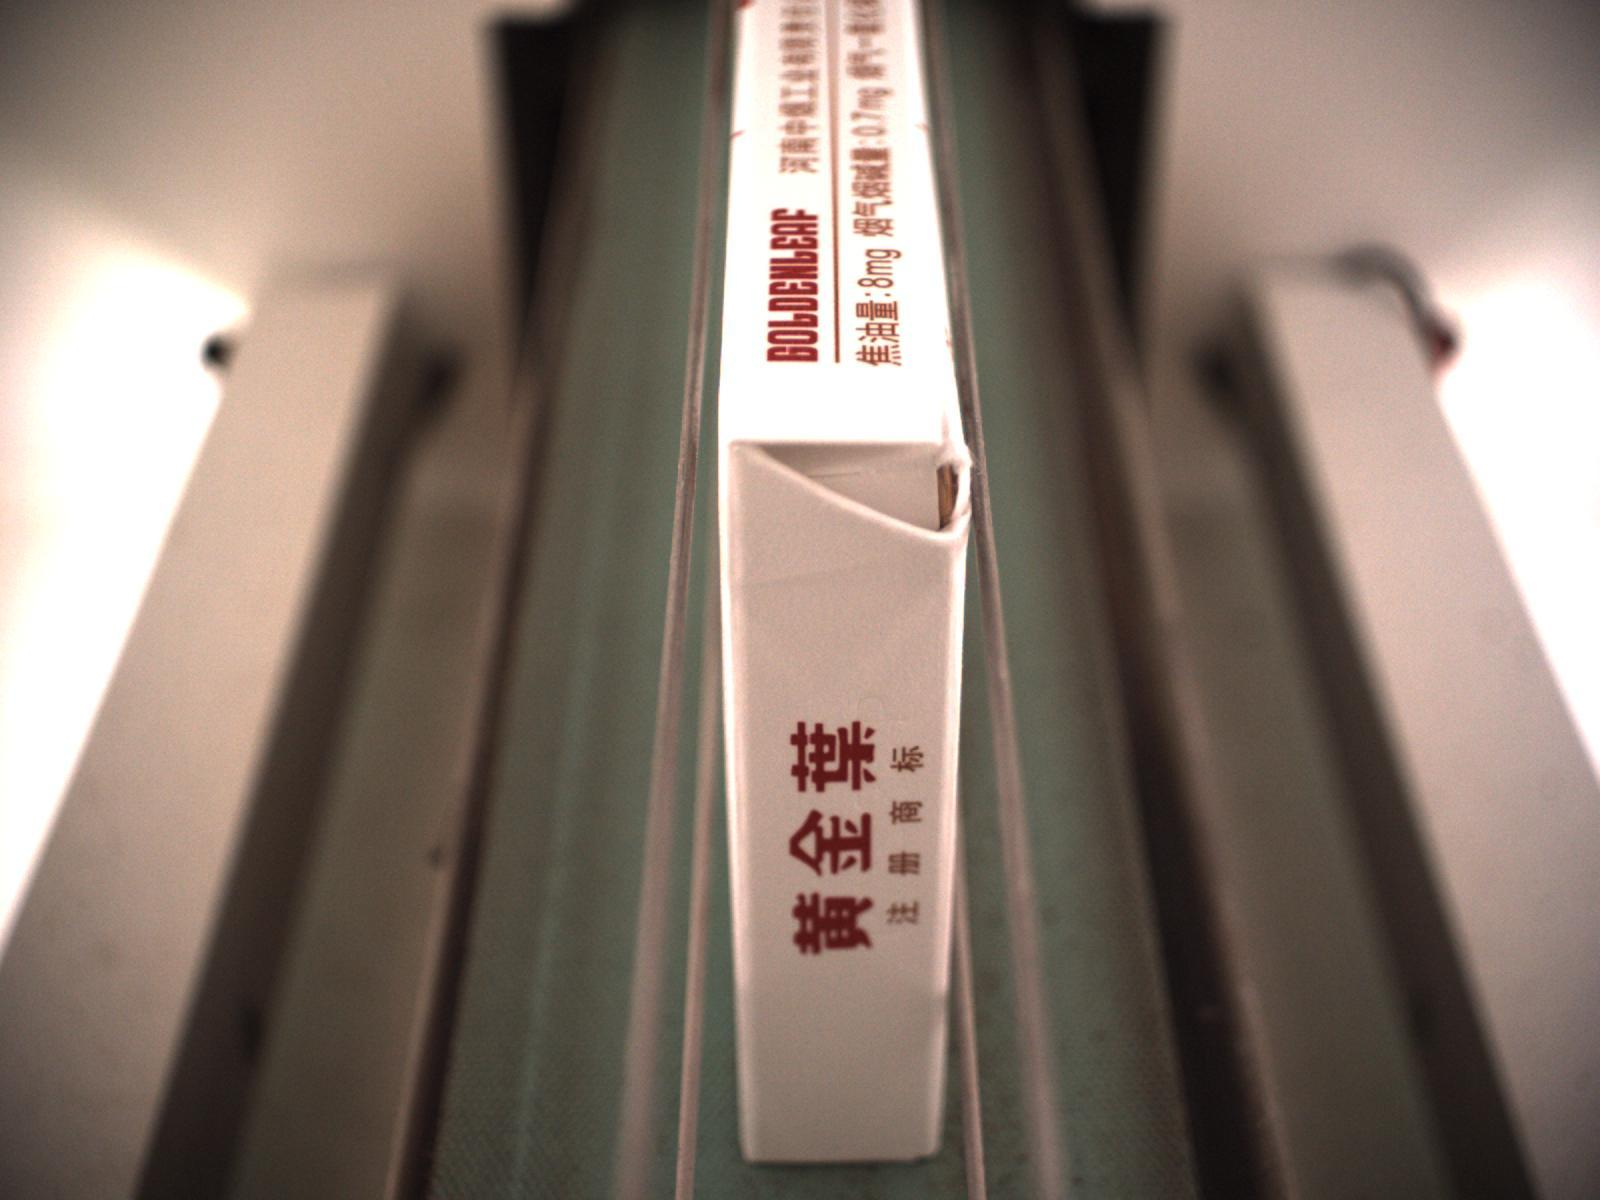cornerBreak: (721, 418, 976, 553)
